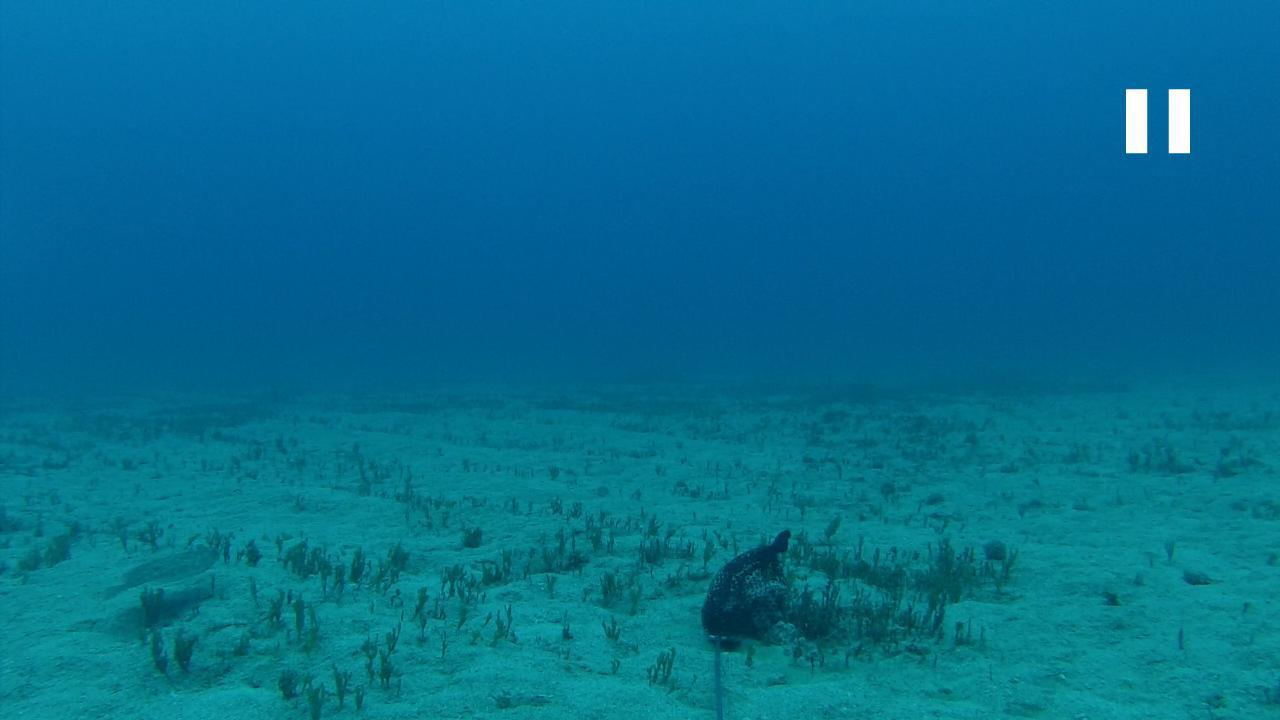bothus: (93, 538, 222, 604)
